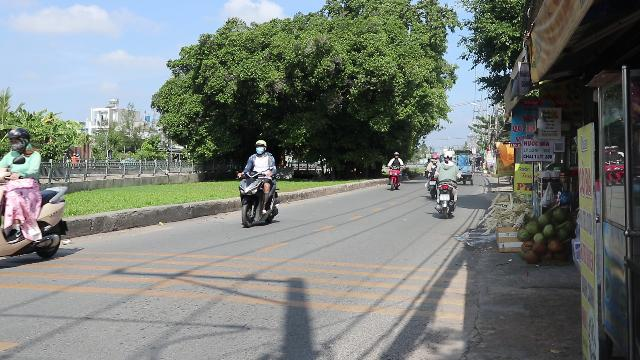helmet: (6, 127, 30, 151), (255, 140, 268, 154)
motorcyclist: (0, 126, 70, 264), (235, 139, 281, 227)
